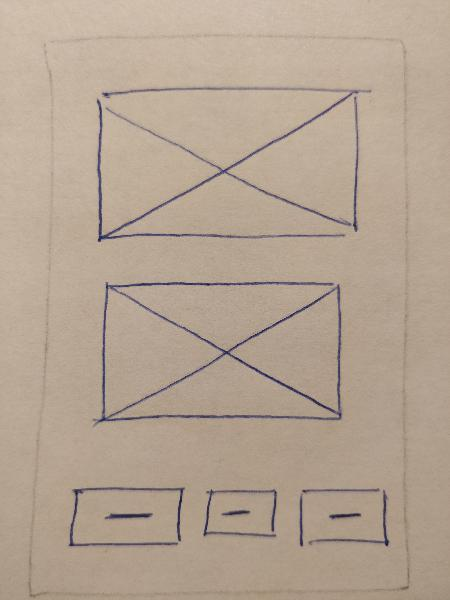button: (65, 476, 191, 554), (291, 476, 395, 554), (196, 480, 284, 549)
image: (88, 78, 372, 246), (85, 273, 359, 429)
